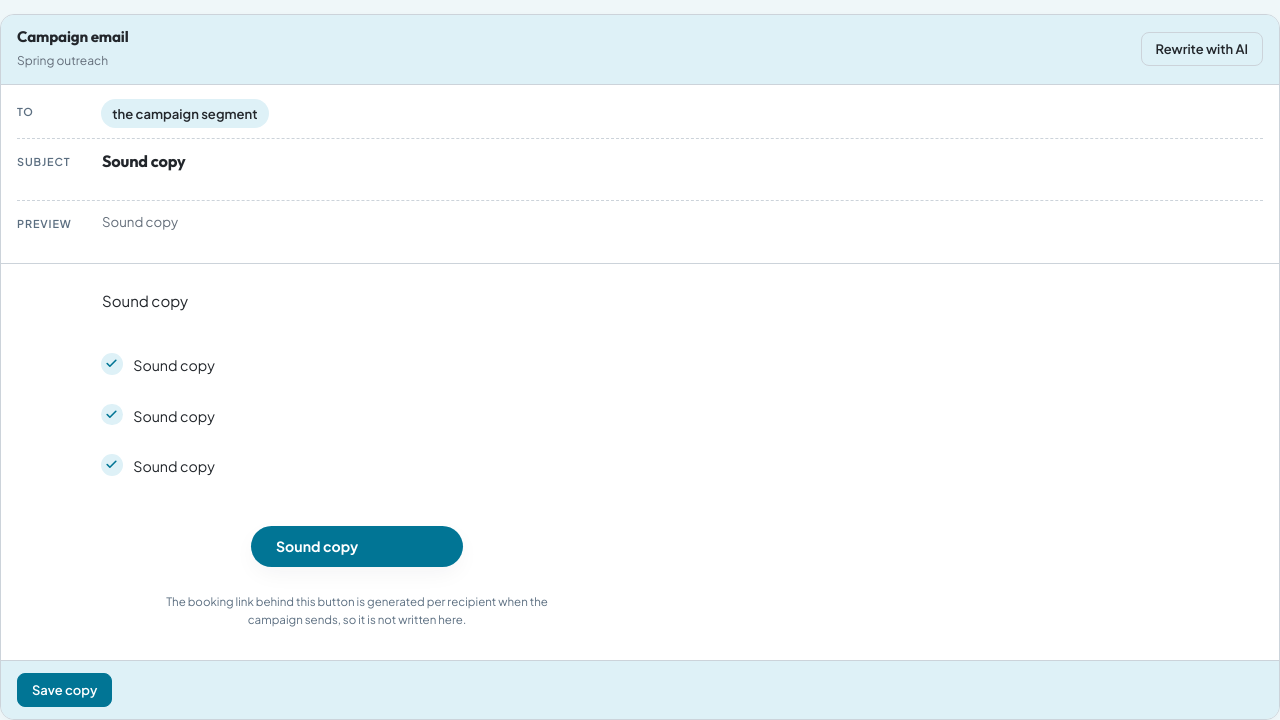
it: CampaignCopyEditor › generation › reports the audience the copy was written for
The width and height of the screenshot is (1280, 720).
Click the button with test id "generate-copy" at (1202, 49), box [1140,32,1263,66]
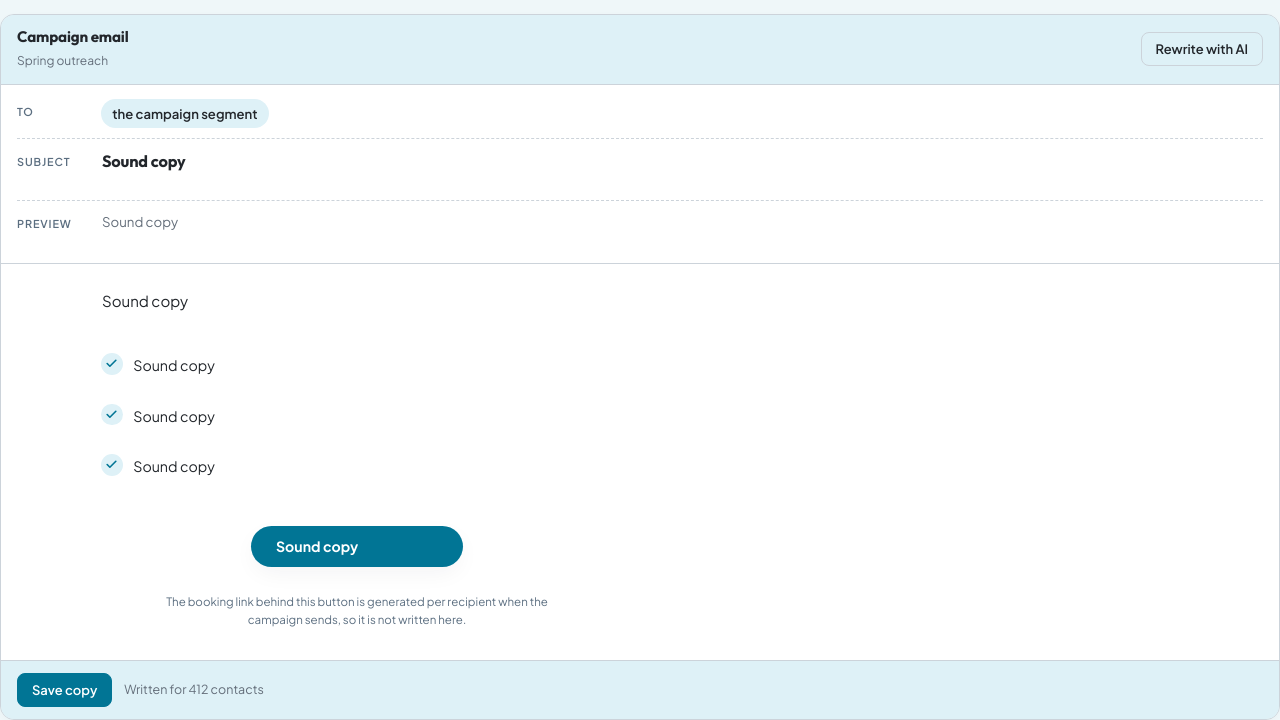
Check: the text with test id "generation-meta" reads "Written for 412 contacts", box [124,681,264,697]
